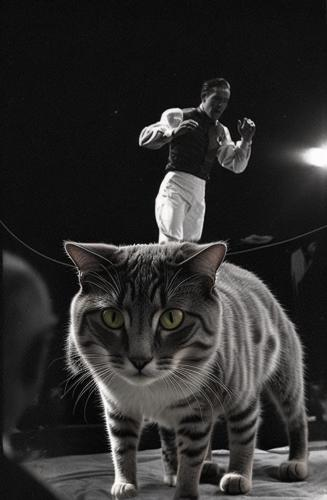cat: (61, 239, 308, 496)
person: (135, 73, 263, 325)
person/foot: (134, 302, 164, 315)
person/hand: (172, 119, 198, 135), (238, 118, 256, 139)
person/head: (200, 76, 230, 120)
